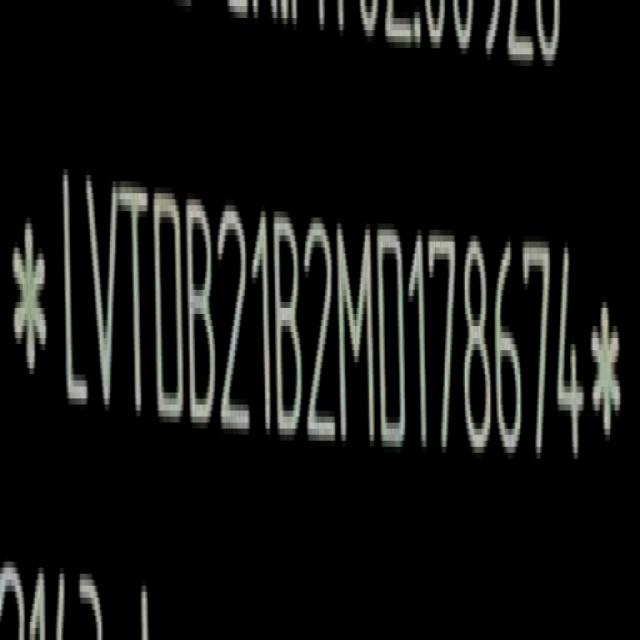1: (250, 208, 274, 440), (407, 224, 431, 454)
2: (215, 199, 252, 443), (304, 208, 338, 449)
4: (556, 230, 588, 465)
6: (493, 228, 524, 456)
7: (519, 232, 554, 463), (428, 224, 460, 452)
8: (462, 228, 492, 458)
B: (185, 190, 217, 434), (273, 206, 303, 445)
D: (150, 172, 187, 434), (376, 217, 409, 452)
L: (60, 154, 89, 427)
M: (336, 210, 377, 452)
T: (118, 168, 151, 427)
V: (82, 165, 121, 414)
